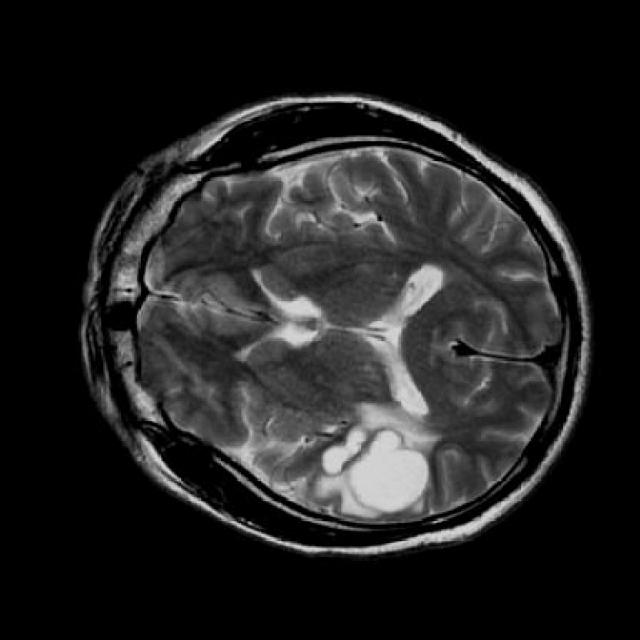Brain-Tumor: (294, 396, 460, 533)
